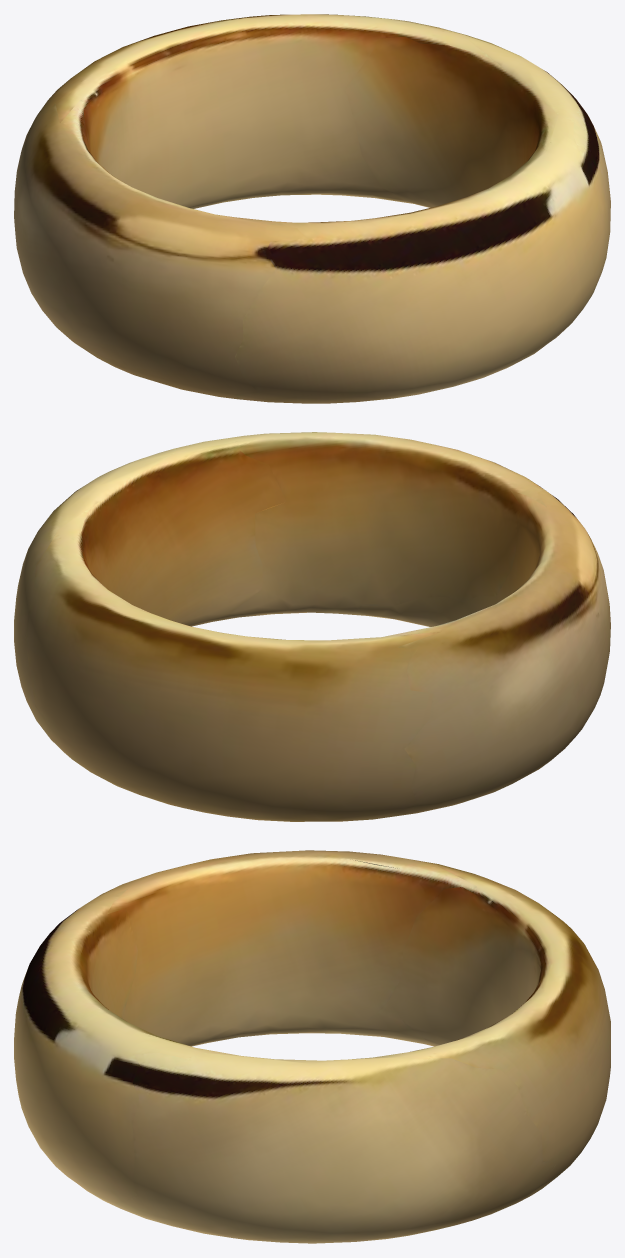
Rendered from m2GrindRing.glb.
3 renders of one model, top to bottom at view 1: azimuth 30°, elevation 25°; view 2: azimuth 150°, elevation 25°; view 3: azimuth 270°, elevation 25°, orthographic.
Parts seen in each view (by area): view 1: model; view 2: model; view 3: model.
Part boxes in pixels (x1,y1,x2,y2): model: [14, 14, 610, 403]; model: [14, 432, 610, 821]; model: [14, 850, 610, 1243].
Size of the model in its own units: 1.9 by 0.6197 by 1.89.
Materials: 1 (1 with a texture image).
